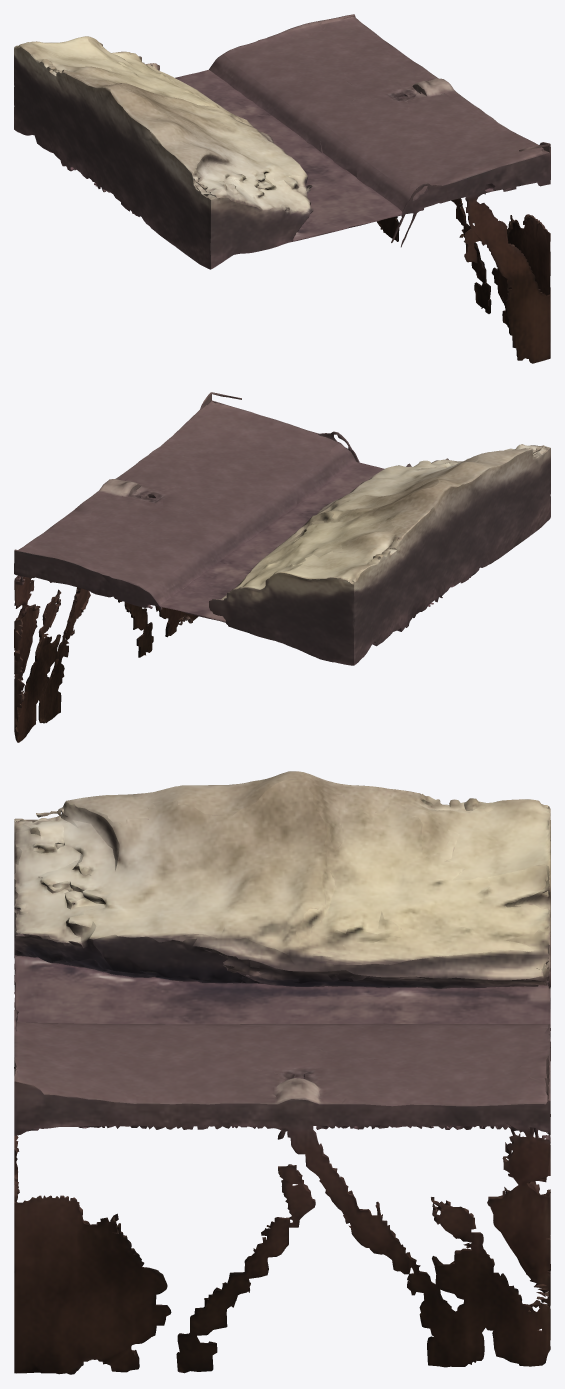
3 views of the same model, one above another, from view 1: azimuth 30°, elevation 25°; view 2: azimuth 150°, elevation 25°; view 3: azimuth 270°, elevation 25° (orthographic). The views are drawn at different scales.
Visible parts, largest first — view 1: world; view 2: world; view 3: world.
Boxes of the visible parts, box(x1,y1,x2,y2) form: world: box(14, 14, 550, 363); world: box(14, 392, 550, 742); world: box(14, 771, 550, 1374).
Bounding box in the file's own units: 1.2 × 0.9375 × 1.2.
1 material, 1 textured.
